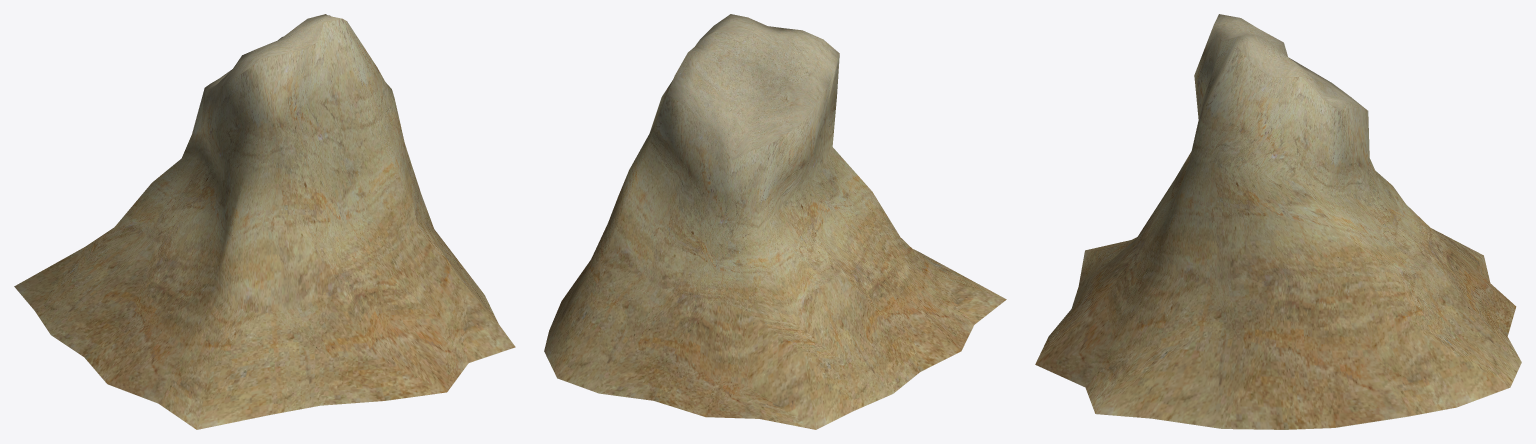
Rendered from rock_beach_spike_a2_l0.fbx.
3 renders of one model, left to right at view 1: azimuth 30°, elevation 25°; view 2: azimuth 150°, elevation 25°; view 3: azimuth 270°, elevation 25°, orthographic. The views are drawn at different scales.
Parts seen in each view (by area): view 1: mesh_node; view 2: mesh_node; view 3: mesh_node.
Part boxes in pixels (x1,y1,x2,y2): mesh_node: (14,14,515,429); mesh_node: (544,14,1006,429); mesh_node: (1035,14,1521,429).
Size of the model in its own units: 7.28 by 5.63 by 7.88.
